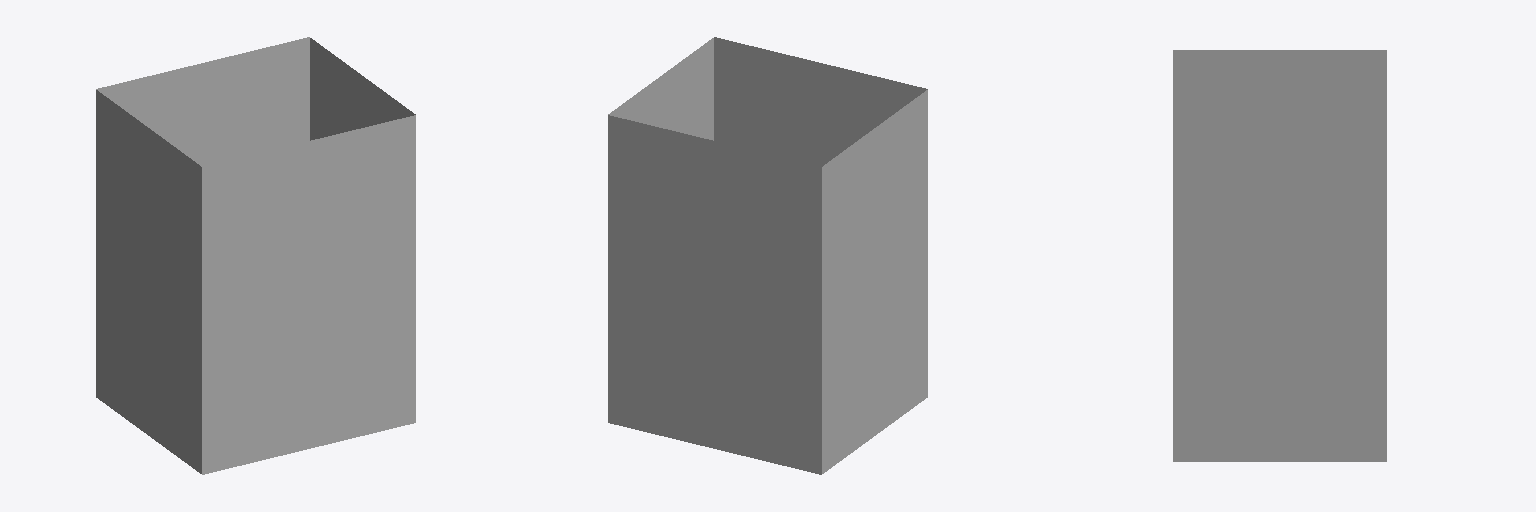
Rendered from lixeira.obj.
The picture shows the model from 3 angles: view 1: azimuth 30°, elevation 25°; view 2: azimuth 150°, elevation 25°; view 3: azimuth 270°, elevation 25°; orthographic projection.
Parts seen in each view (by area): view 1: Cubo; view 2: Cubo; view 3: Cubo.
Part boxes in pixels (bbox=[...]): Cubo: bbox=[96, 37, 415, 474]; Cubo: bbox=[608, 37, 927, 474]; Cubo: bbox=[1173, 50, 1386, 461].
Bounding box in the file's own units: 2.88 × 3.97 × 2.49.